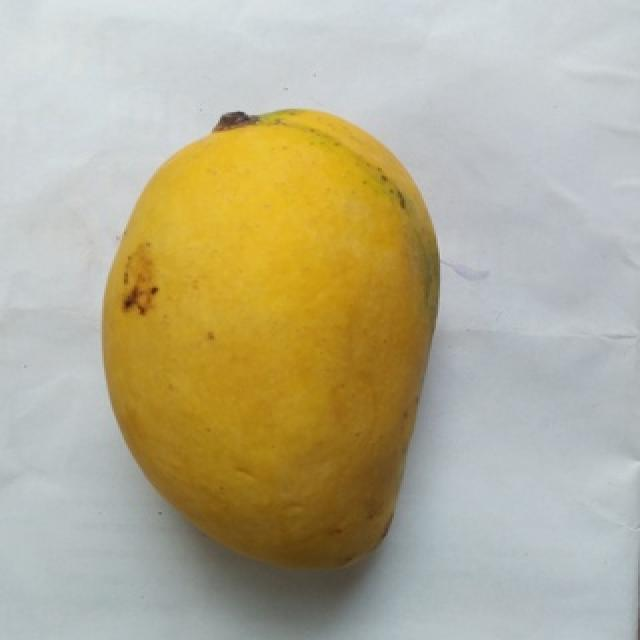Mango: (102, 110, 438, 565)
